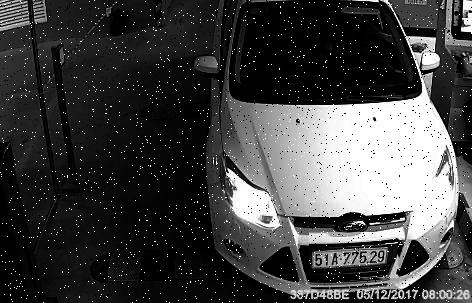License-plate: (311, 234, 401, 281)
